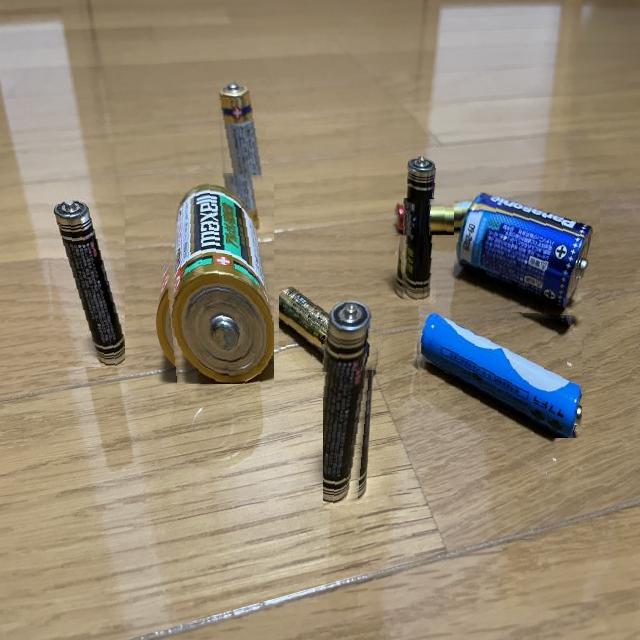battery: (155, 168, 274, 384), (412, 306, 582, 438), (454, 192, 601, 326), (41, 187, 125, 367), (323, 290, 376, 510), (280, 278, 390, 374), (211, 76, 266, 224), (393, 146, 436, 306), (387, 197, 498, 235)
